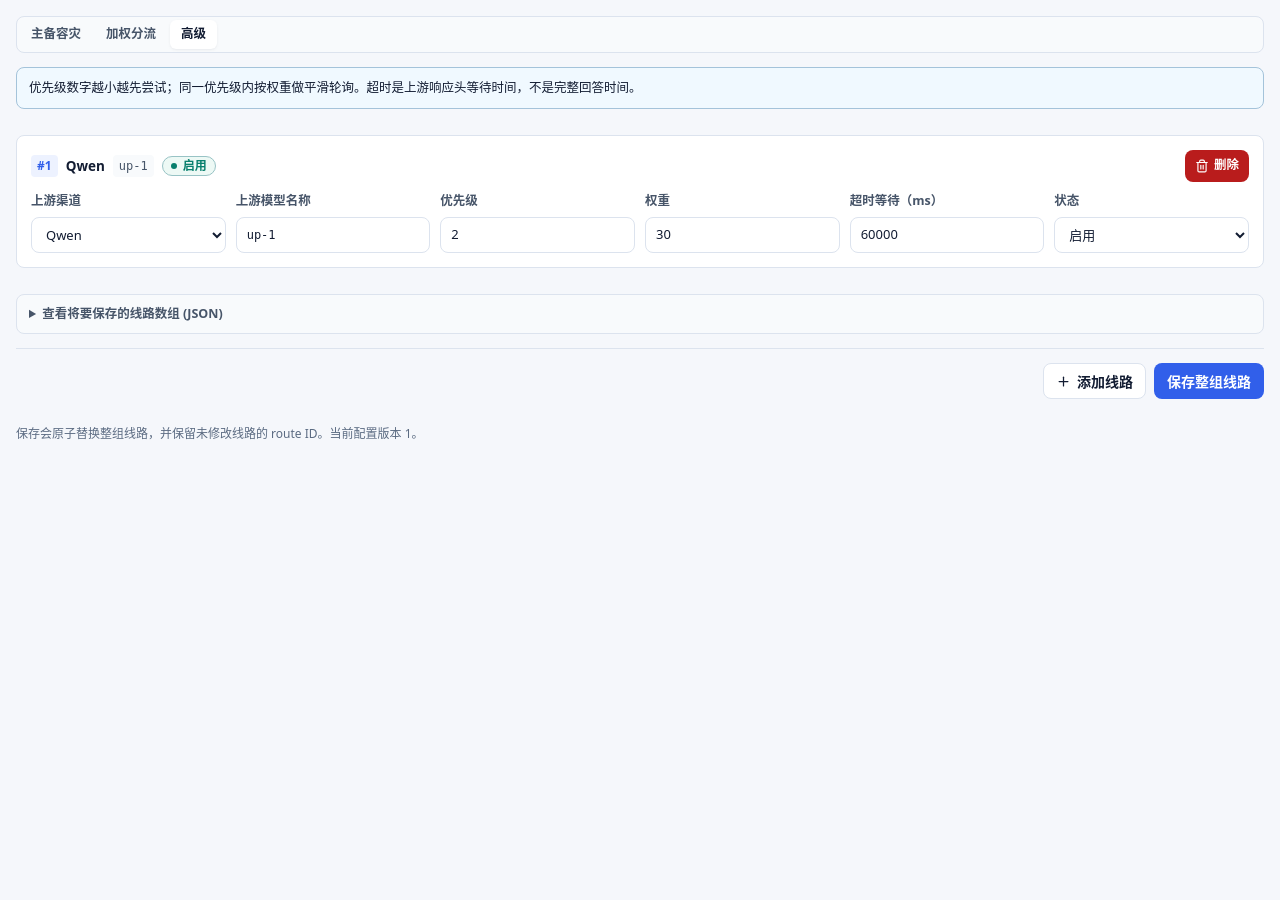
Test: RouteEditor save preview › lists a disabled line and a removed line in the same preview
Expected: the field showing "up-1" is shown, [236,216,430,252]
Select "停用" in the dropdown labelled "状态": (1152,234) [1054,216,1249,252]
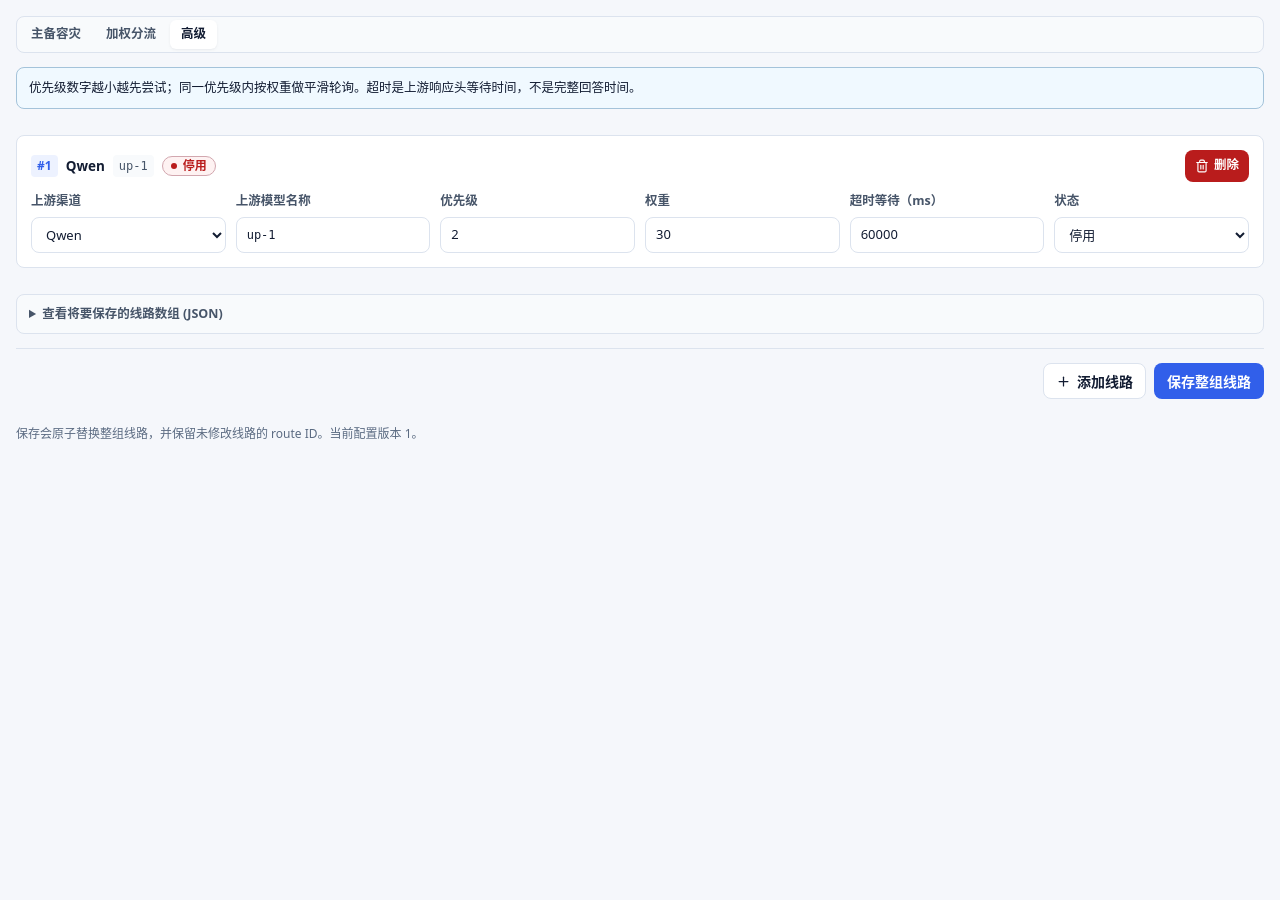
Click the button "添加线路": (1094,381) [1043,363,1146,399]
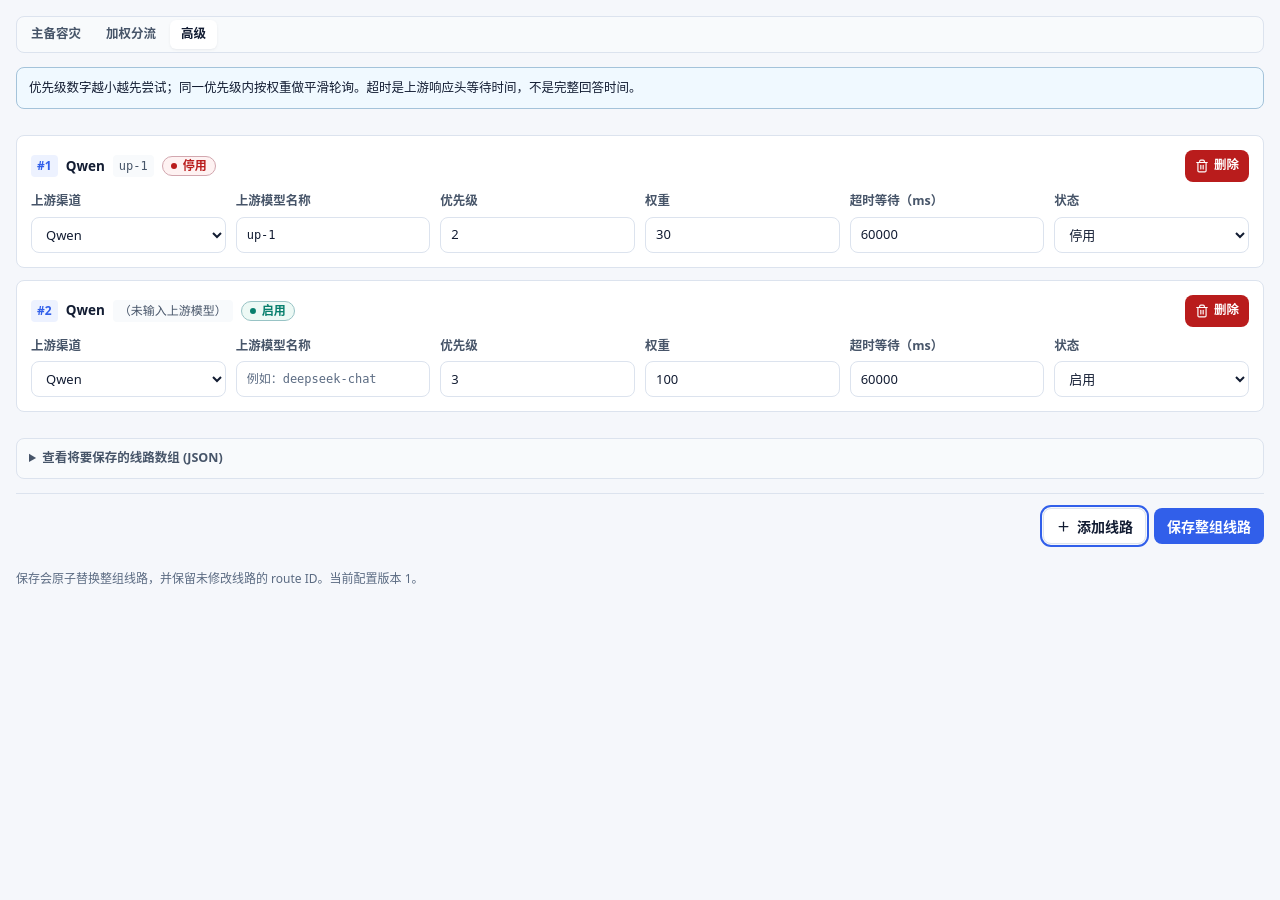
Click the button "保存整组线路": (1209,526) [1154,508,1264,544]
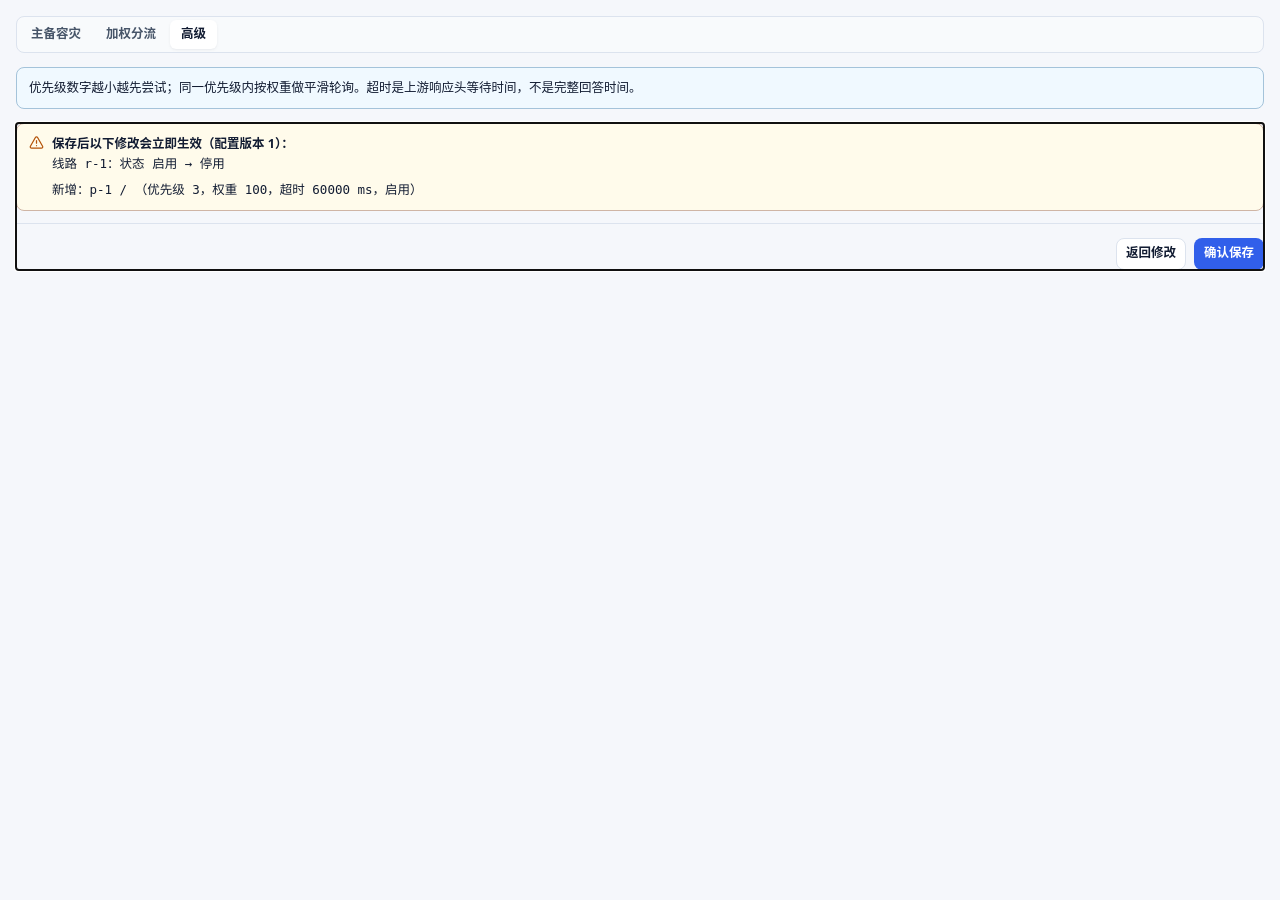
Now the text "线路 r-1：状态 启用 → 停用" is shown, box [52,154,225,174]
Now the text "新增：p-1 / （优先级 3，权重 100，超时 60000 ms，启用）" is shown, box [52,180,422,200]
